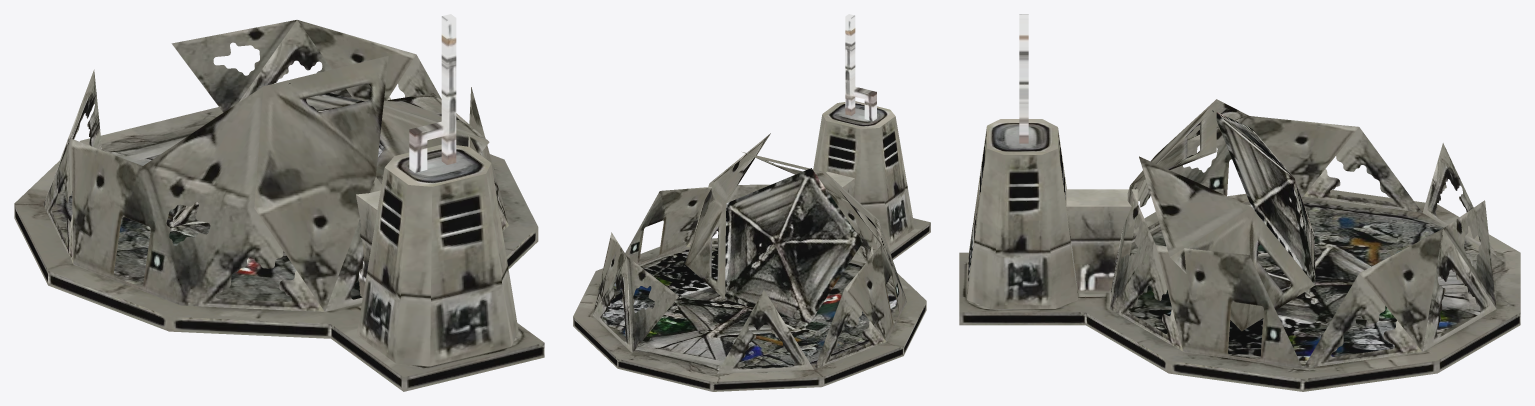
File: geodesicdome_dam_hdtex.glb
The picture shows the model from 3 angles, left to right: view 1: azimuth 30°, elevation 25°; view 2: azimuth 150°, elevation 25°; view 3: azimuth 270°, elevation 25°; orthographic projection. The views are drawn at different scales.
Visible parts, largest first — view 1: Roofcap; view 2: Roofcap; view 3: Roofcap.
Boxes of the visible parts, <box> form: Roofcap: <box>14,14,544,391</box>; Roofcap: <box>573,14,930,391</box>; Roofcap: <box>959,14,1520,391</box>.
Size of the model in its own units: 14.62 by 10.03 by 17.93.
Materials: 1 (1 with a texture image).
